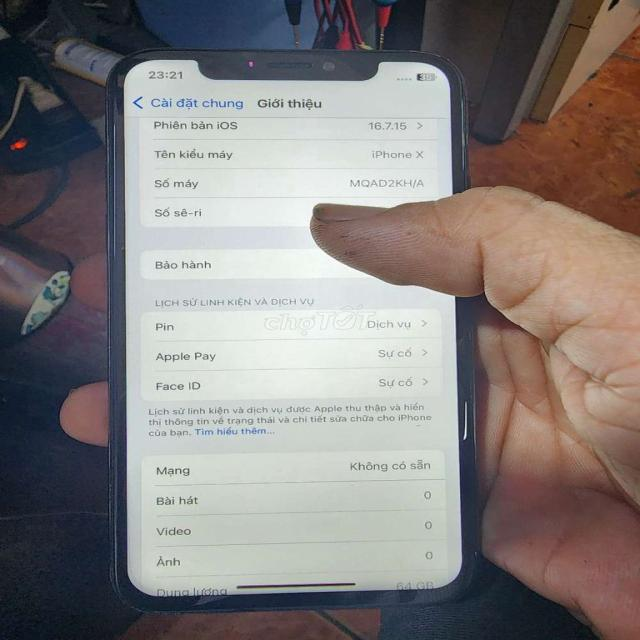gen_x_xs: (84, 36, 526, 620)
scratch: (98, 311, 122, 547), (401, 44, 465, 76), (469, 311, 482, 467), (454, 94, 477, 178), (108, 237, 138, 261), (471, 546, 486, 563)
